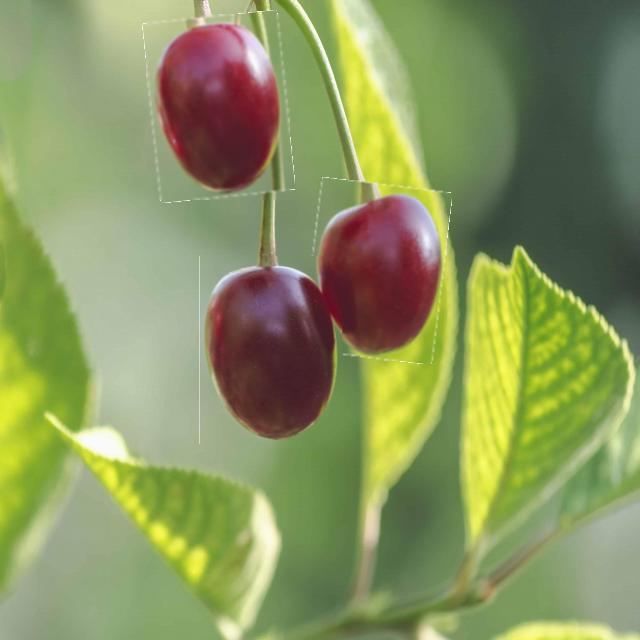cherry: (199, 256, 342, 444), (147, 14, 290, 200), (306, 180, 447, 361)
